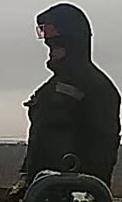gloves: (4, 165, 29, 202)
helmet: (34, 19, 64, 41)
vest: (22, 69, 120, 192)
